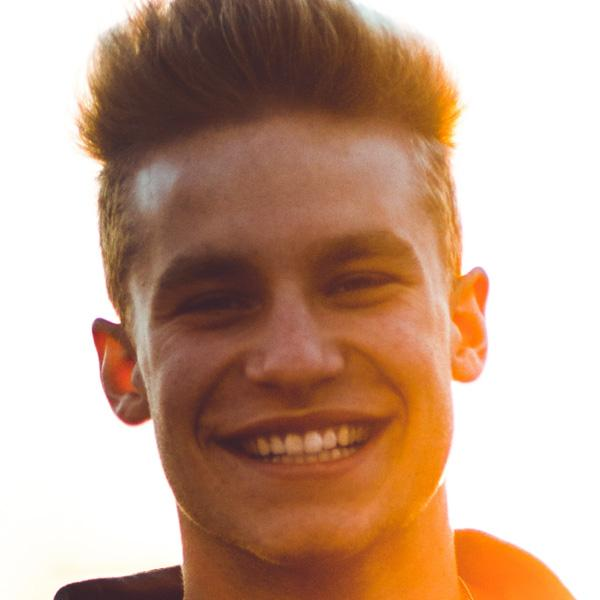Eyes: (164, 272, 268, 335), (311, 251, 412, 312)
